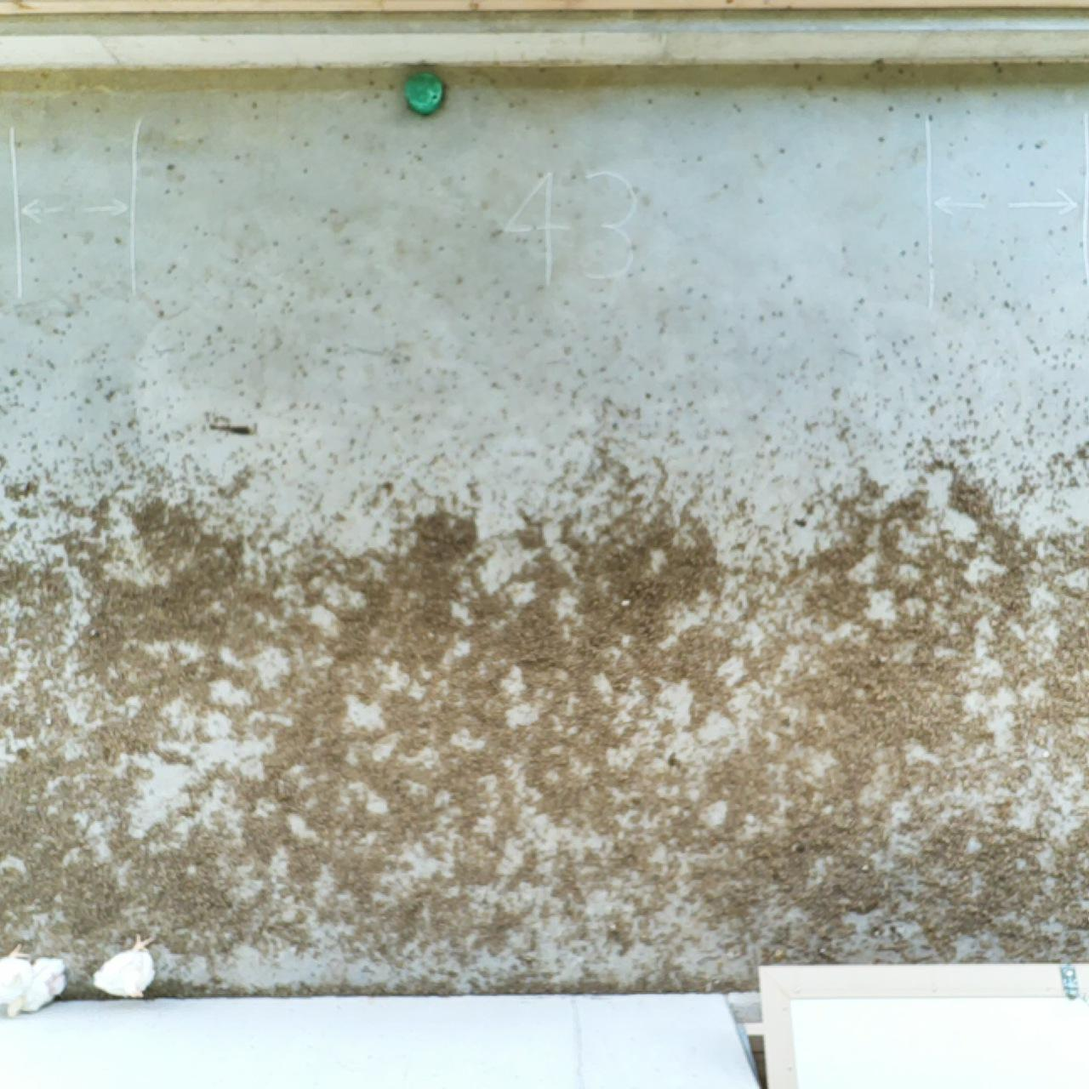chicken: (87, 930, 158, 1001), (4, 955, 67, 1020), (0, 938, 34, 1010)
